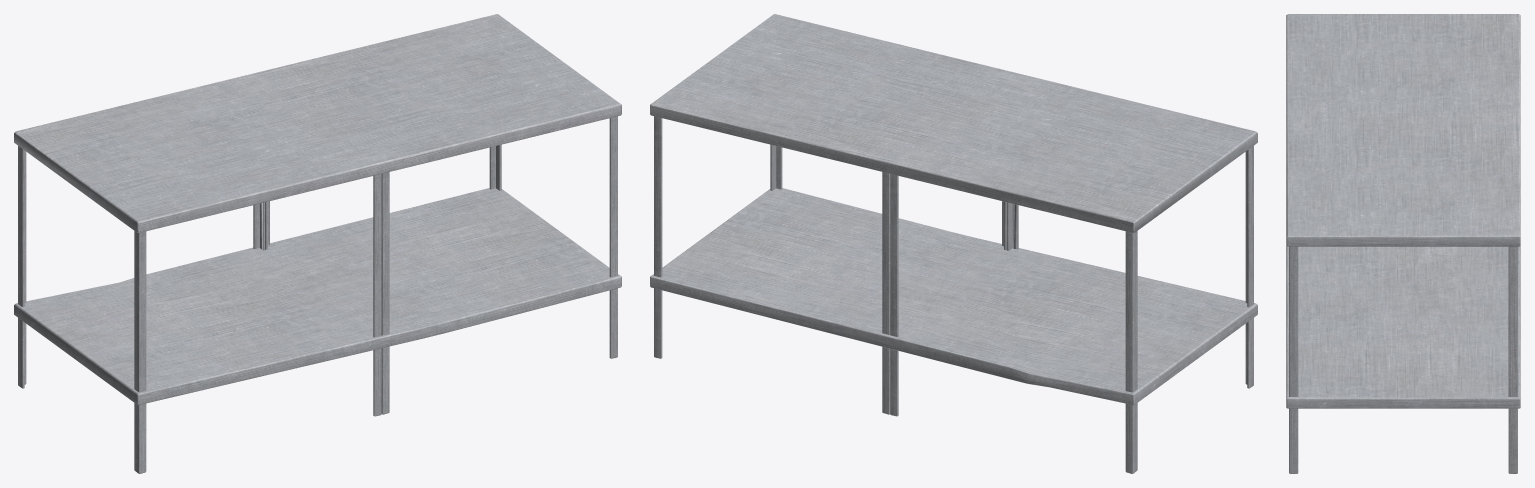
The model's file is SM_DeskC.FBX.
3 renders of one model, left to right at view 1: azimuth 30°, elevation 25°; view 2: azimuth 150°, elevation 25°; view 3: azimuth 270°, elevation 25°, orthographic. The views are drawn at different scales.
Parts seen in each view (by area): view 1: SM_DeskC; view 2: SM_DeskC; view 3: SM_DeskC.
Part boxes in pixels (box(x1,y1,x2,y2)): SM_DeskC: box(14, 14, 621, 473); SM_DeskC: box(650, 14, 1257, 473); SM_DeskC: box(1286, 14, 1520, 473).
Size of the model in its own units: 180 by 90 by 80.
